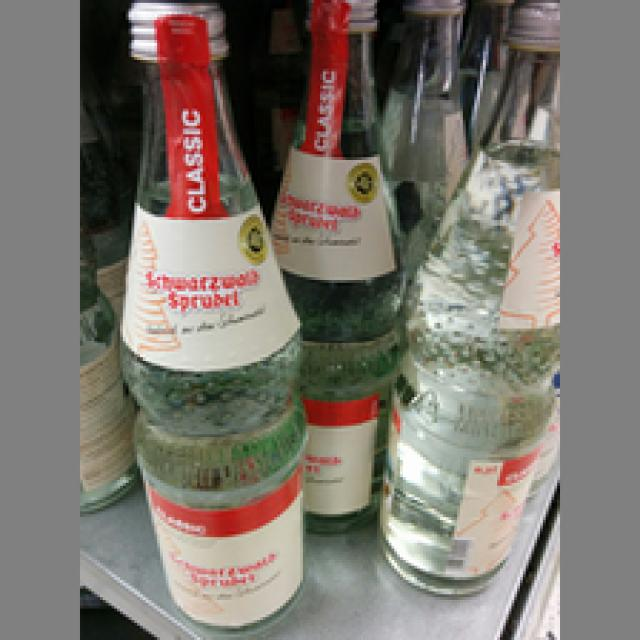groceries: (117, 0, 308, 631), (383, 0, 551, 597), (269, 0, 400, 529)
